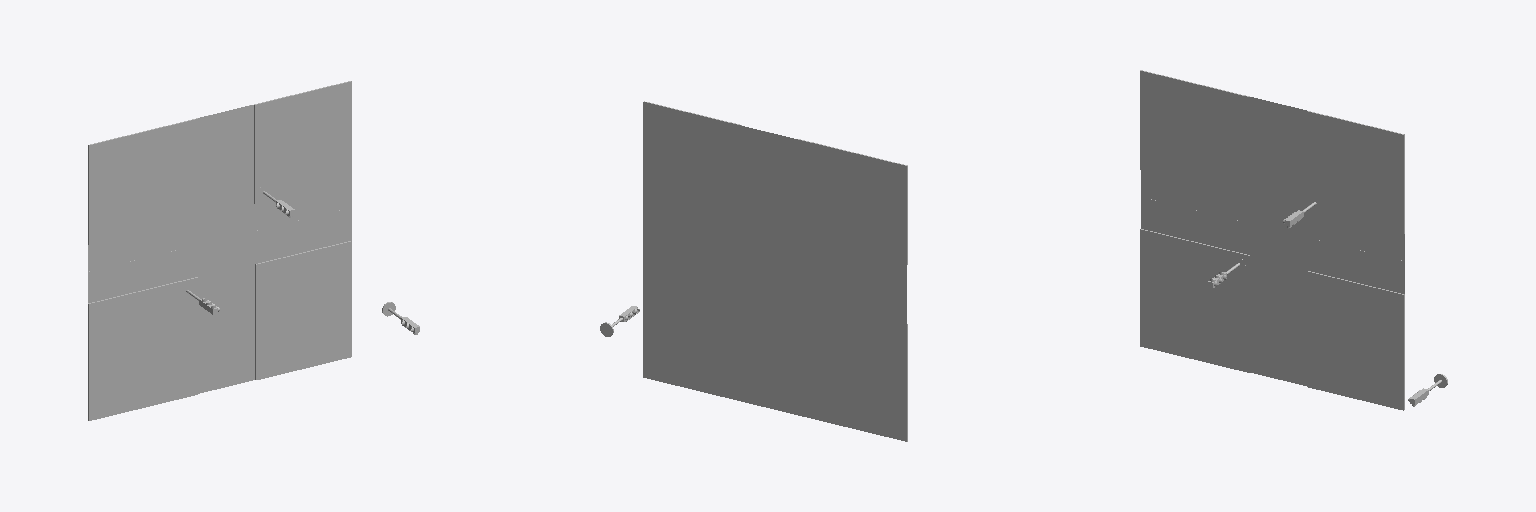
File: tinkercad.obj
3 views of the same model, side by side, from view 1: azimuth 30°, elevation 25°; view 2: azimuth 150°, elevation 25°; view 3: azimuth 330°, elevation 25° (orthographic).
Parts seen in each view (by area): view 1: obj_0; view 2: obj_0; view 3: obj_0.
Boxes of the visible parts, x1,y1,x2,y2 form: obj_0: [88, 81, 419, 420]; obj_0: [600, 101, 907, 441]; obj_0: [1140, 70, 1447, 410].
Size of the model in its own units: 233 by 200 by 38.